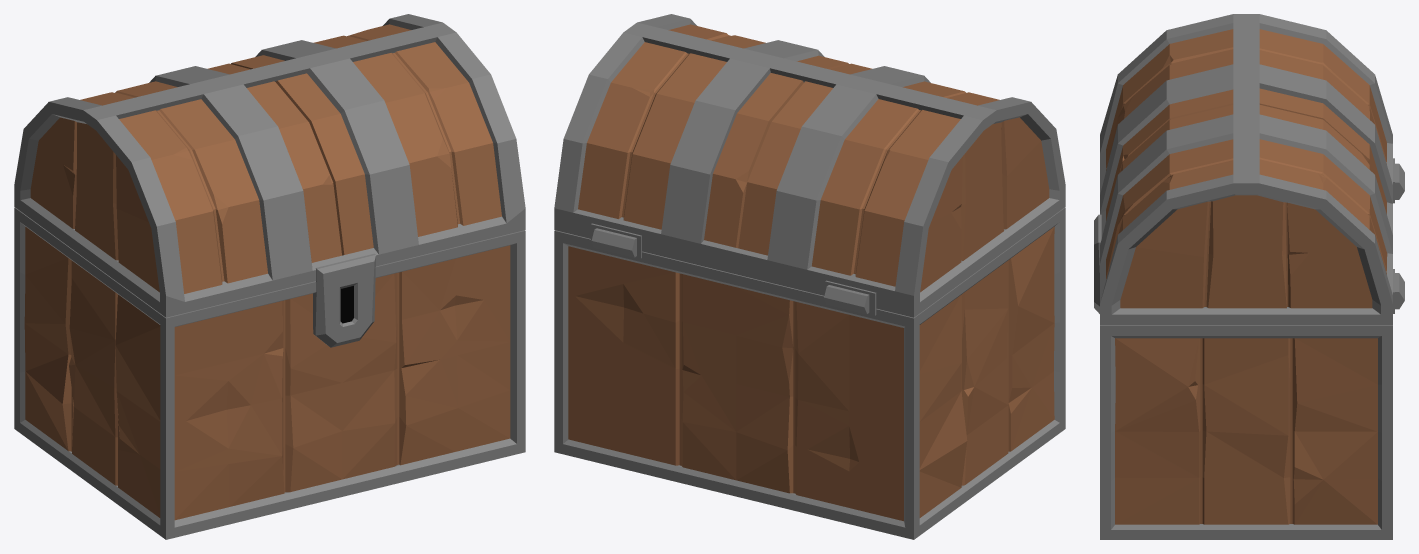
Rendered from Chest.fbx.
3 renders of one model, left to right at view 1: azimuth 30°, elevation 25°; view 2: azimuth 150°, elevation 25°; view 3: azimuth 270°, elevation 25°, orthographic. The views are drawn at different scales.
Visible parts, largest first — view 1: ChestClosed; view 2: ChestClosed; view 3: ChestClosed.
Part boxes in pixels (x1=…): ChestClosed: x1=14, y1=14, x2=525, y2=539; ChestClosed: x1=554, y1=14, x2=1065, y2=539; ChestClosed: x1=1094, y1=14, x2=1404, y2=539.
Size of the model in its own units: 179 by 174 by 138.
